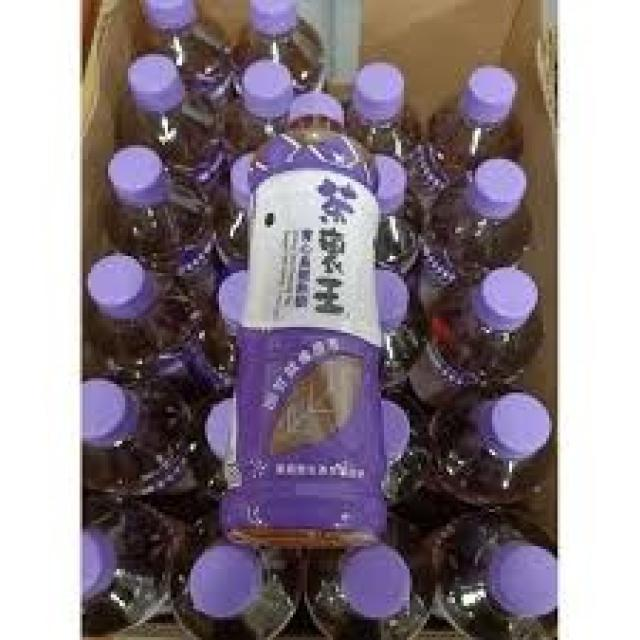ChaLiWong_TsingXinOolong: (242, 98, 392, 542)
